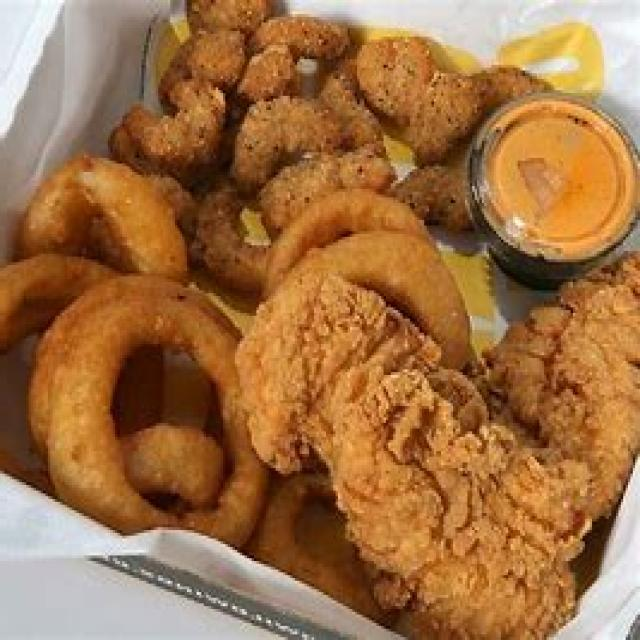Chicken Wings: (264, 234, 640, 638)
Onion Rings: (2, 194, 429, 538)
